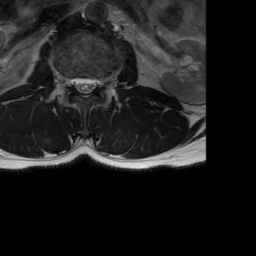CCS_normal: (81, 70, 88, 102)
LFS_normal: (97, 70, 106, 95)
LLS_normal: (88, 70, 97, 98)
RFS_normal: (64, 68, 72, 96)
RLS_normal: (72, 70, 81, 98)
